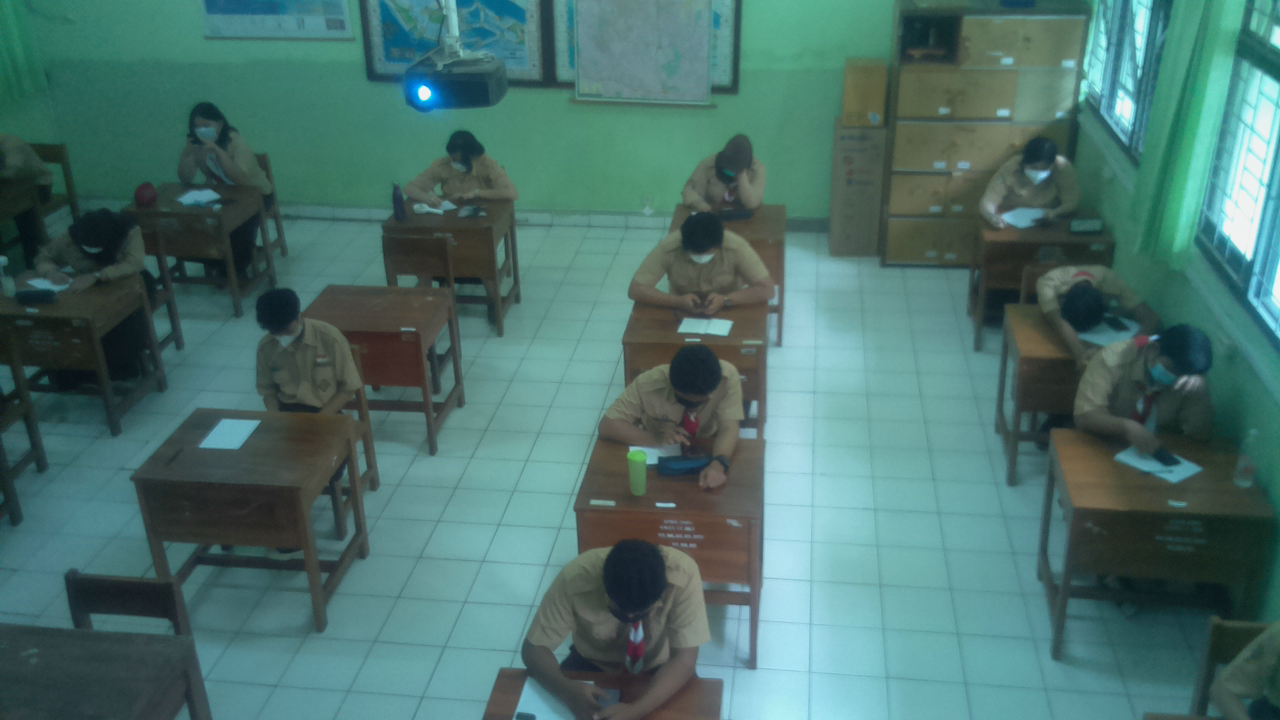Student: (549, 537, 701, 667), (1087, 322, 1209, 435), (255, 289, 355, 403), (619, 345, 741, 438), (645, 211, 758, 297), (1037, 261, 1129, 333), (175, 103, 253, 186), (995, 139, 1079, 212), (419, 131, 508, 198), (57, 209, 143, 276), (691, 133, 766, 209)
